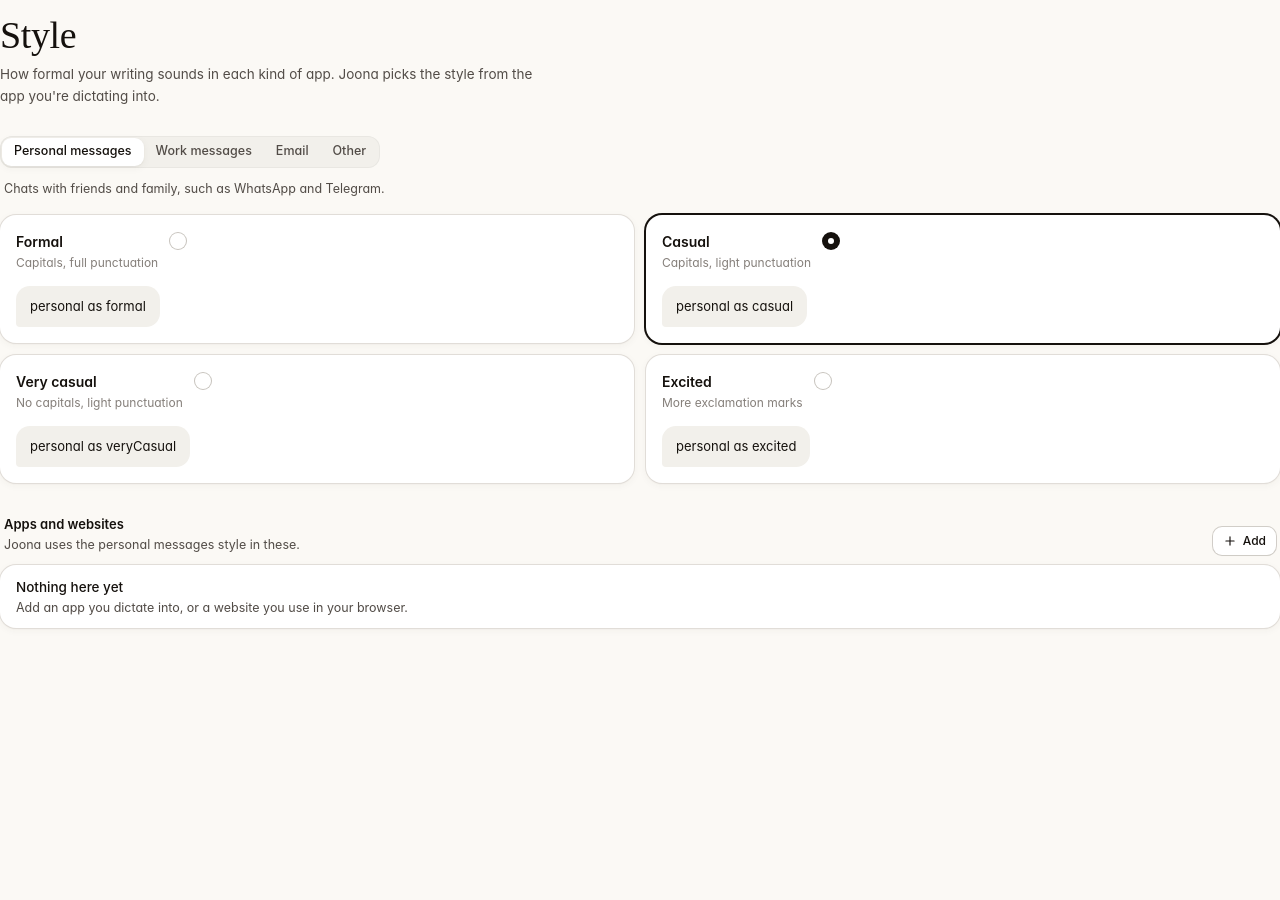
Style › adds an app you've used, or a website
Click the button "Add" at (1244, 541), box [1213,527,1276,555]
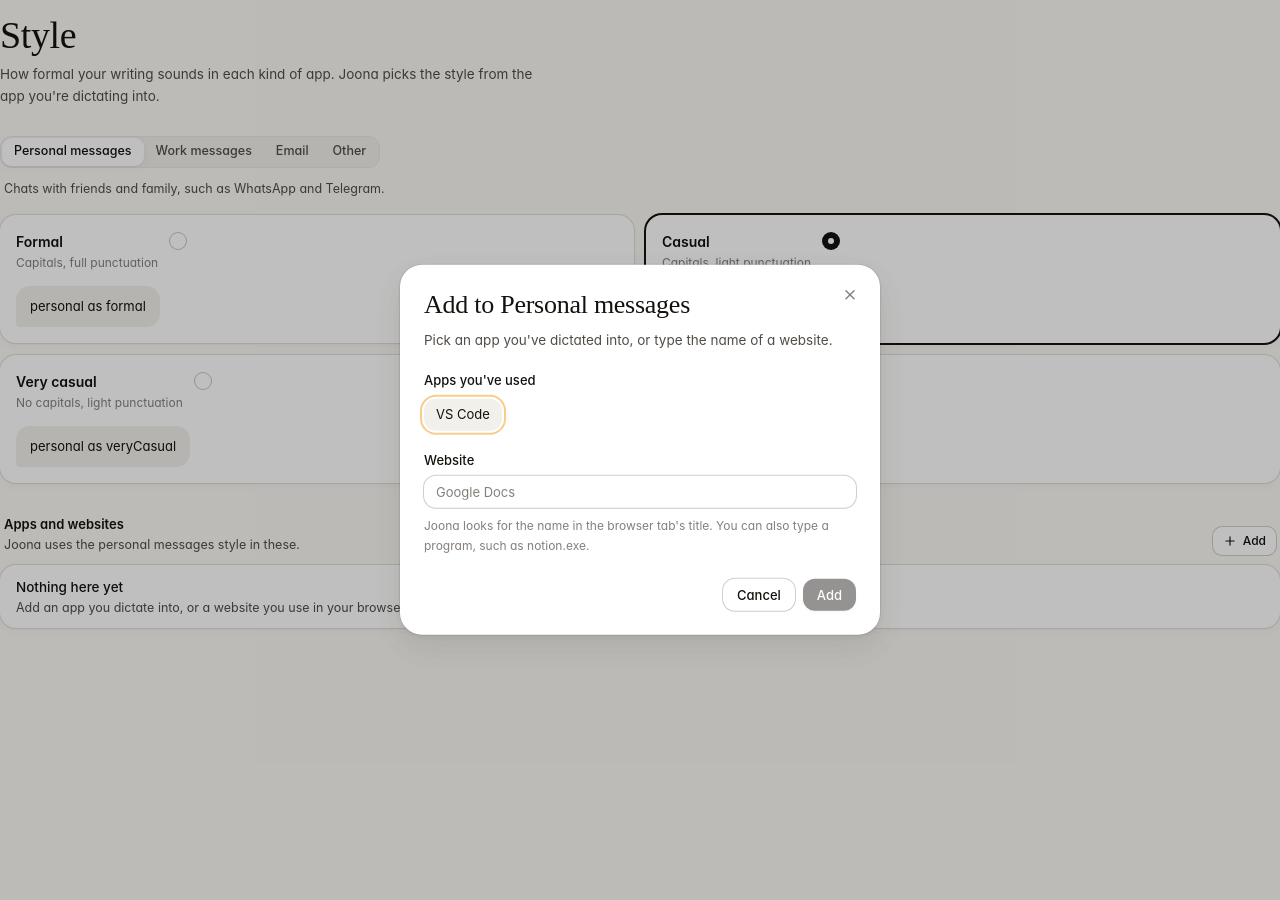
Click the button "VS Code" at (463, 415), box [424,399,502,431]
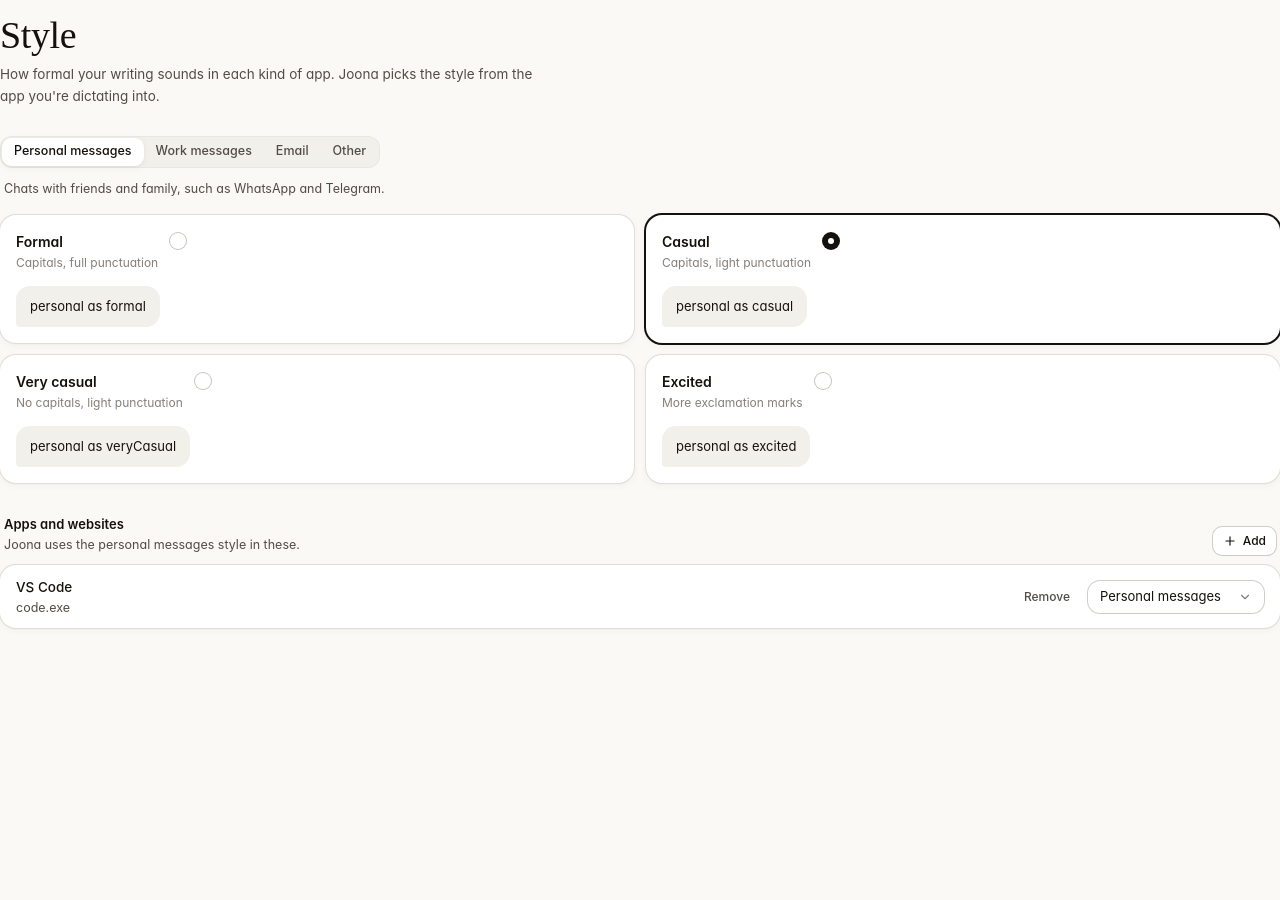
expect the text "VS Code" is shown: met, box [16,577,72,597]
expect the dialog is gone: met
expect the button "Remove" is shown: met, box [1014,583,1080,611]
Click the button "Add" at (1244, 541), box [1213,527,1276,555]
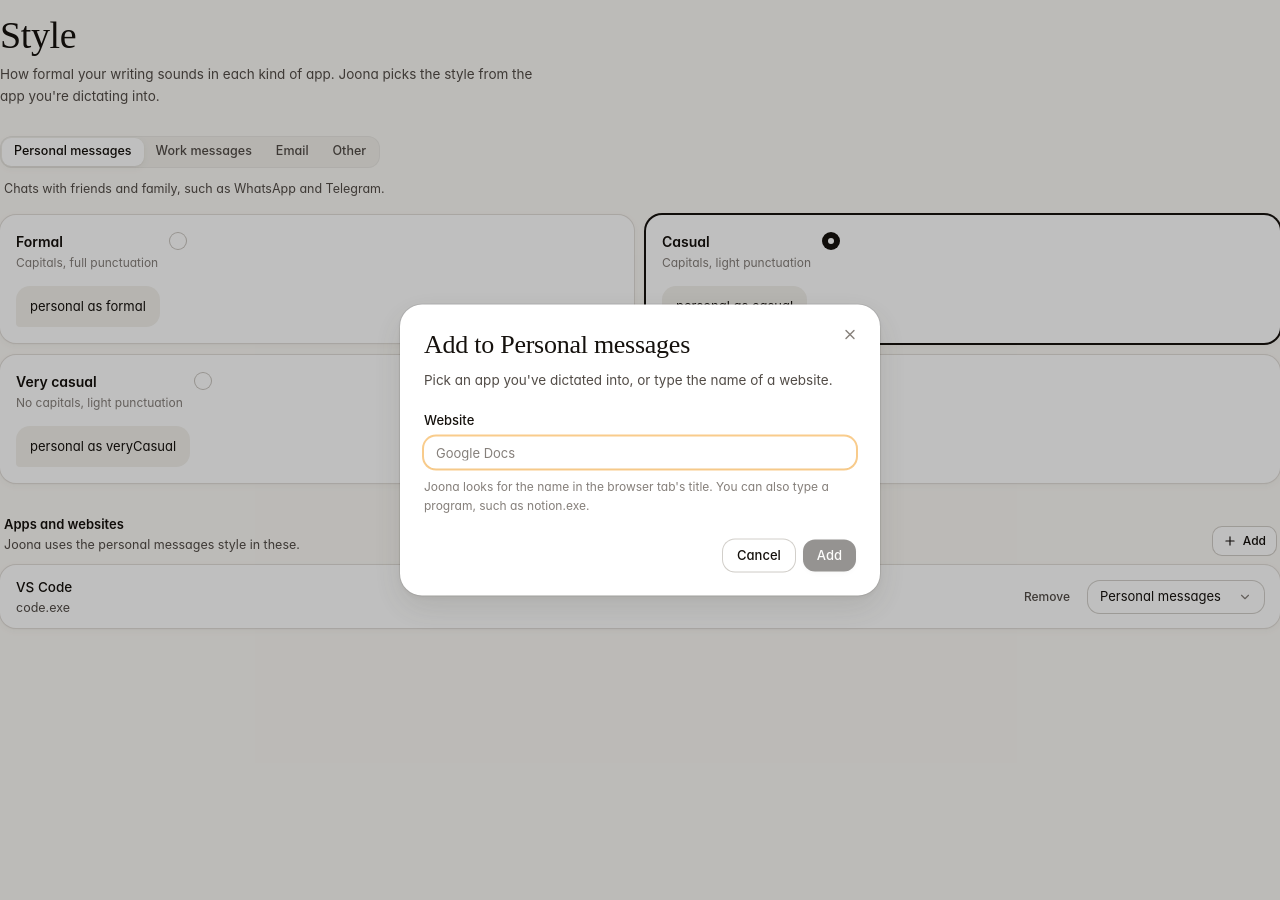
Type "Notion" into the field labelled "Website" at (640, 452), box [424,436,856,468]
Then press Enter
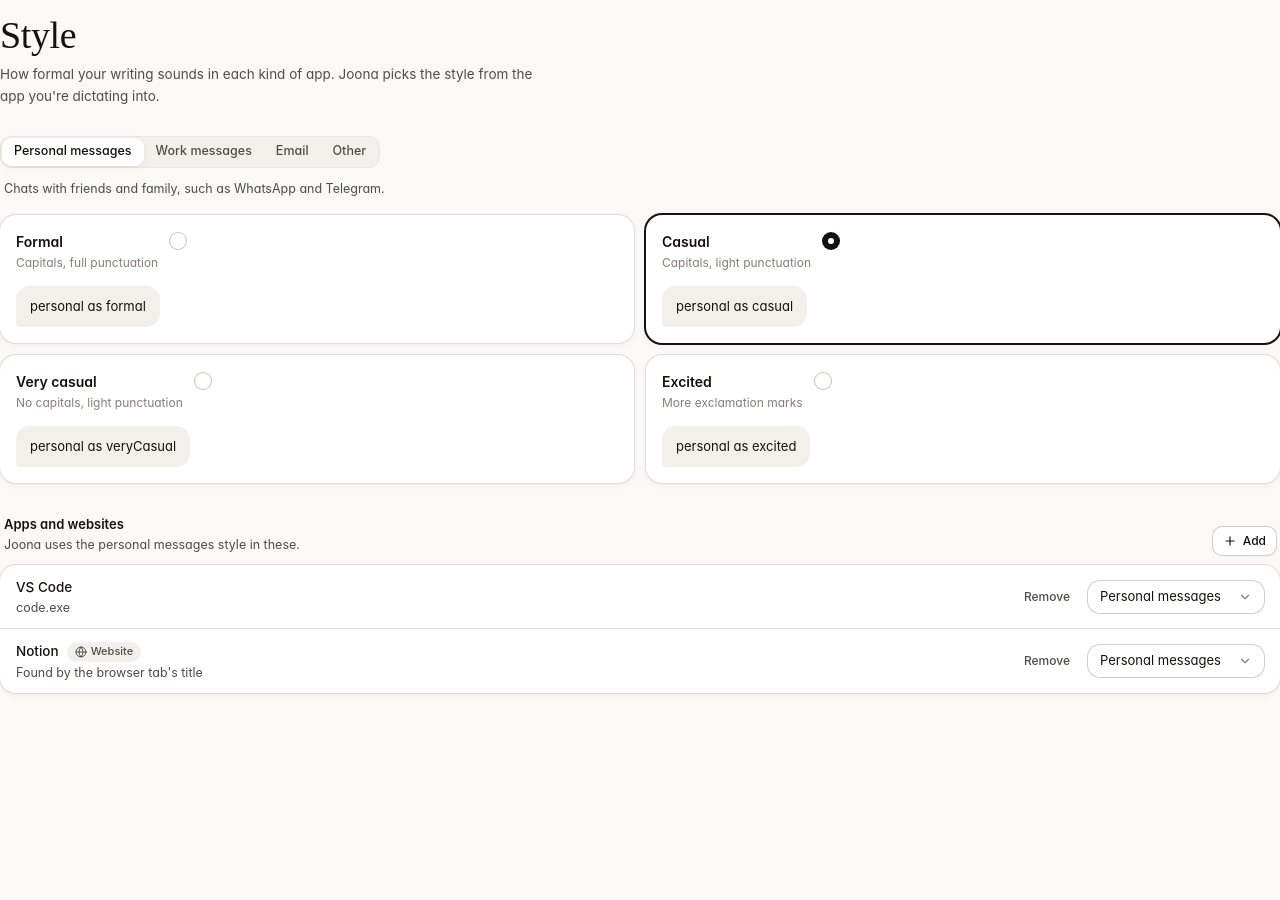
expect the text "Notion" is shown: met, box [16,642,59,662]
expect the dialog is gone: met
